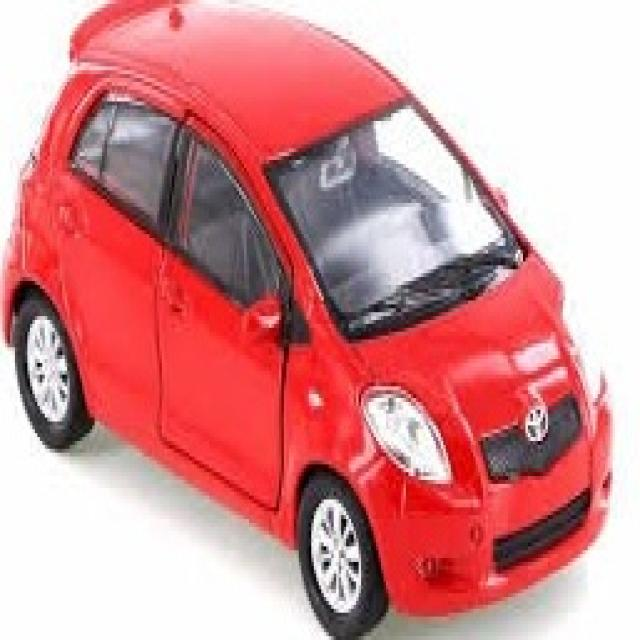red: (9, 4, 614, 606)
